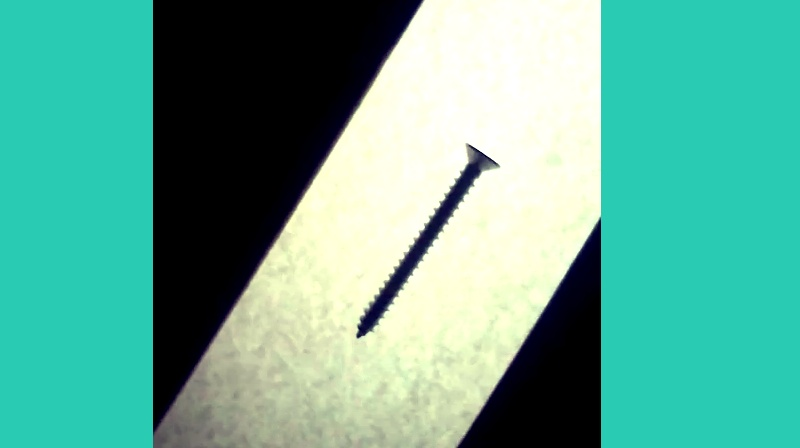S002: (355, 138, 504, 341)
